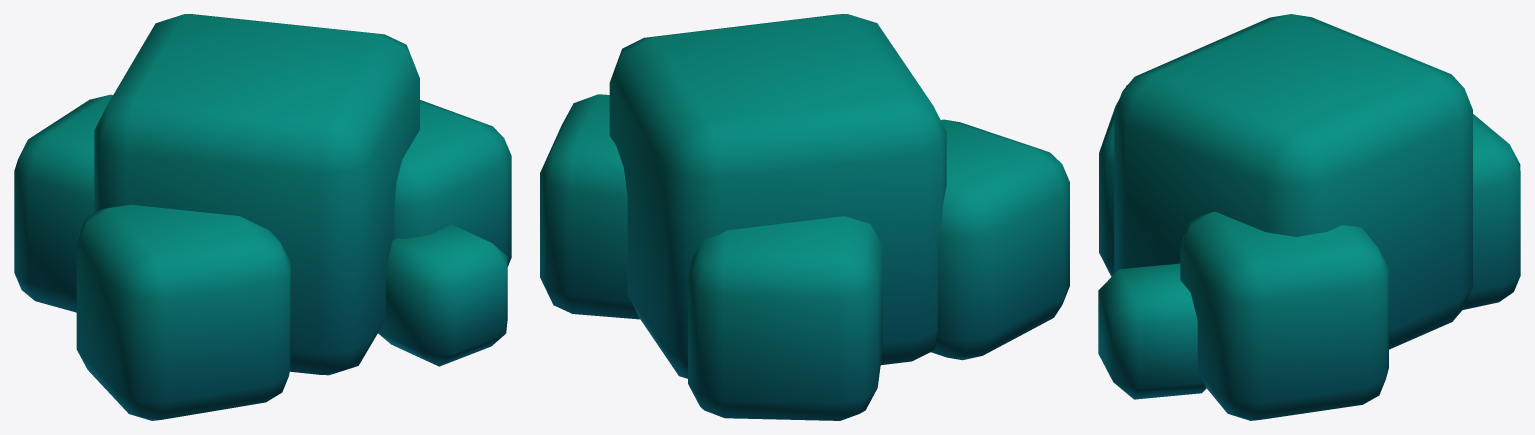
Rendered from herb.glb.
3 renders of one model, left to right at view 1: azimuth 30°, elevation 25°; view 2: azimuth 150°, elevation 25°; view 3: azimuth 270°, elevation 25°, orthographic. The views are drawn at different scales.
Visible parts, largest first — view 1: Bush_2_E_Color4; view 2: Bush_2_E_Color4; view 3: Bush_2_E_Color4.
Boxes of the visible parts, x1,y1,x2,y2 form: Bush_2_E_Color4: (14,14,511,420); Bush_2_E_Color4: (540,14,1069,420); Bush_2_E_Color4: (1098,14,1520,420).
Bounding box in the file's own units: 2.35 × 1.33 × 2.01.
Materials: 1 (1 with a texture image).
